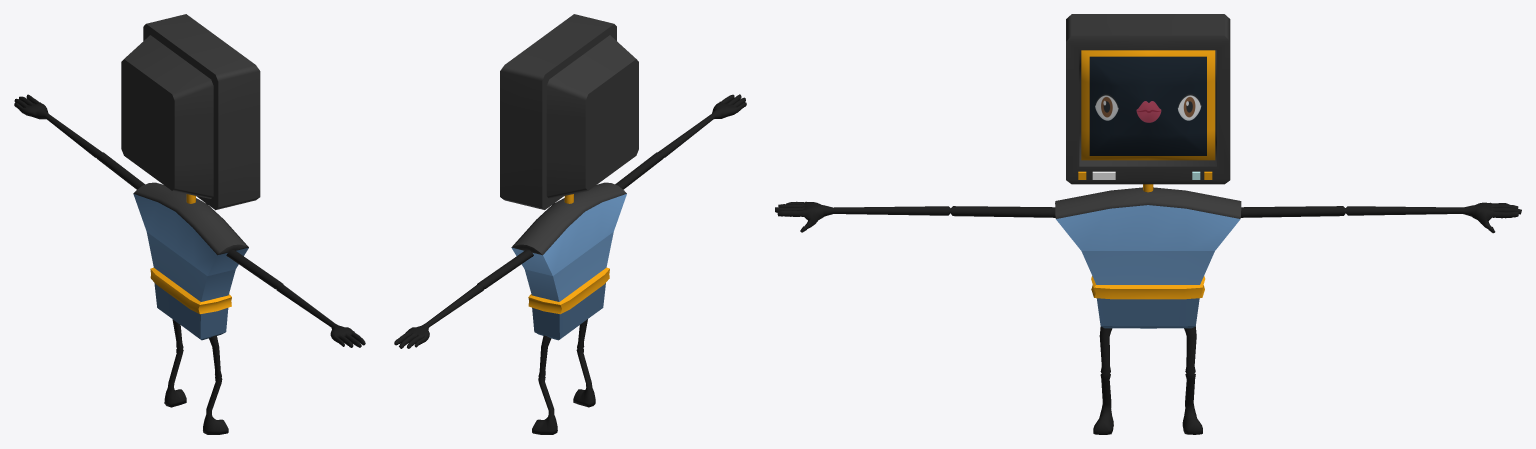
Rendered from Face_guy.glb.
3 views of the same model, side by side, from view 1: azimuth 30°, elevation 25°; view 2: azimuth 150°, elevation 25°; view 3: azimuth 270°, elevation 25° (orthographic). The views are drawn at different scales.
Parts seen in each view (by area): view 1: _100Avatars_163_face; view 2: _100Avatars_163_face; view 3: _100Avatars_163_face.
Part boxes in pixels (x1,y1,x2,y2): _100Avatars_163_face: [14, 14, 365, 434]; _100Avatars_163_face: [394, 14, 746, 434]; _100Avatars_163_face: [775, 14, 1521, 434].
Bounding box in the file's own units: 0.9022 × 4.08 × 6.77.
1 material, 1 textured.
